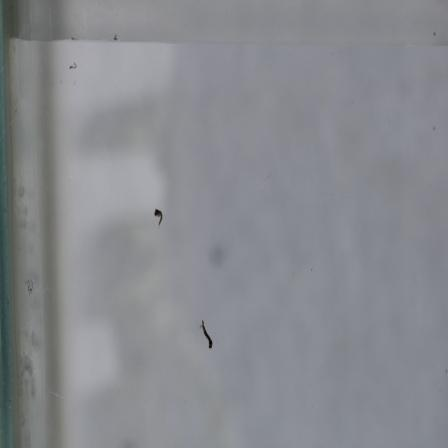Jentik-Nyamuk: (197, 318, 217, 351), (149, 203, 167, 229)
